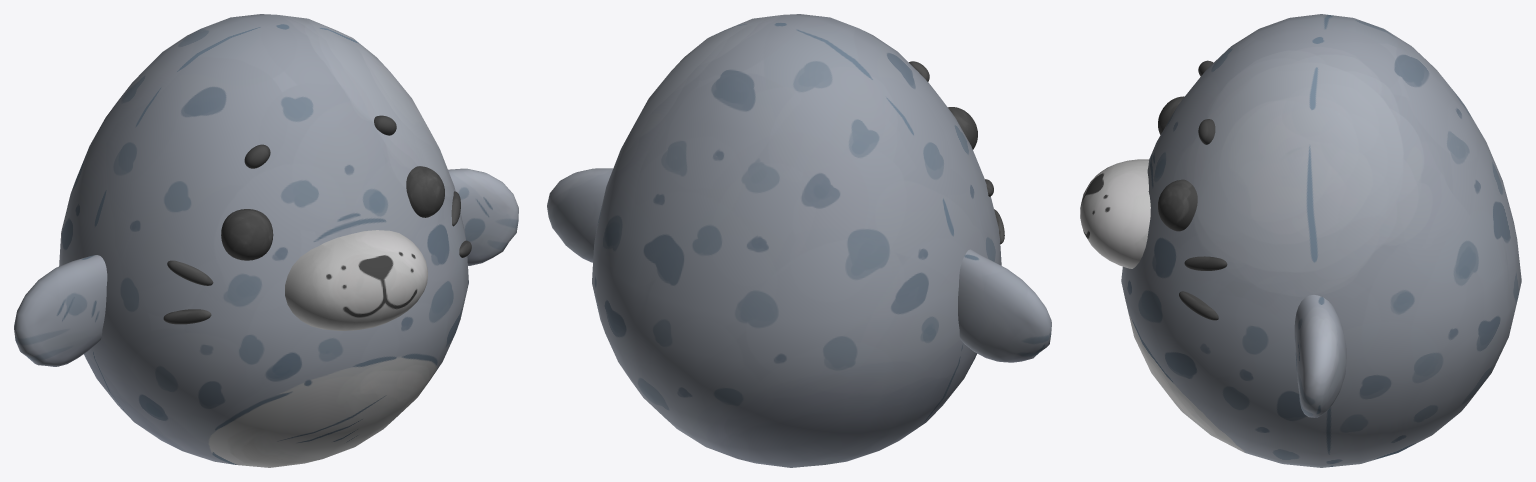
File: M_Foquita.fbx
The picture shows the model from 3 angles, left to right: view 1: azimuth 30°, elevation 25°; view 2: azimuth 150°, elevation 25°; view 3: azimuth 270°, elevation 25°; orthographic projection.
Visible parts, largest first — view 1: Peluche_Foquita; view 2: Peluche_Foquita; view 3: Peluche_Foquita.
Part boxes in pixels (bbox=[...]): Peluche_Foquita: bbox=[14, 14, 518, 467]; Peluche_Foquita: bbox=[547, 14, 1051, 467]; Peluche_Foquita: bbox=[1080, 14, 1521, 467].
Size of the model in its own units: 5.56 by 4.45 by 4.26.
